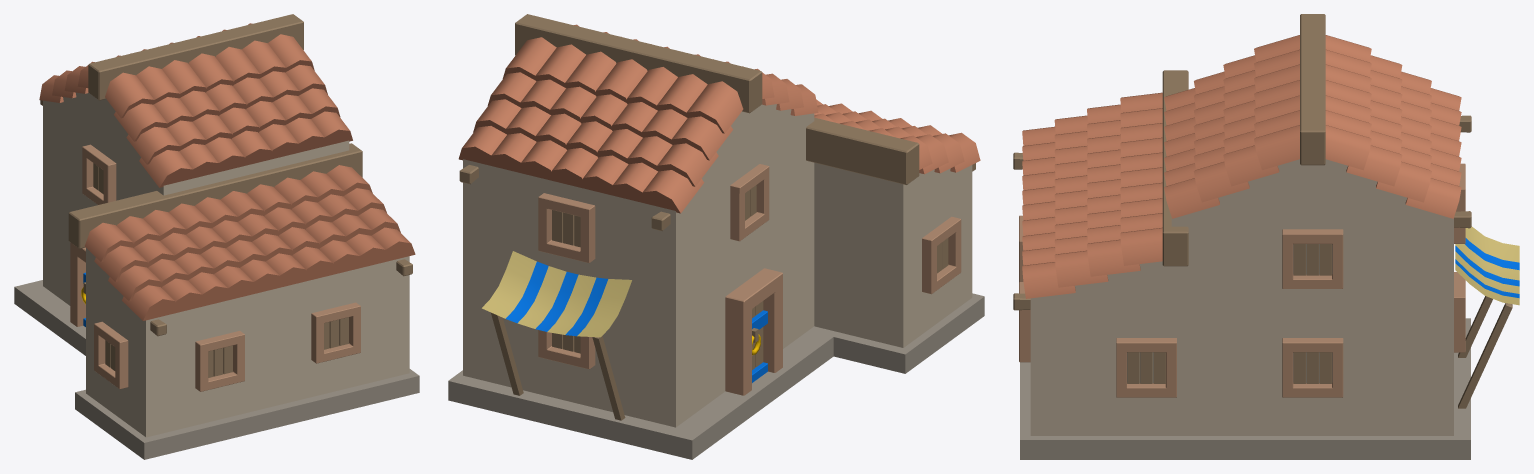
The model's file is mesh_house_02.fbx.
3 renders of one model, left to right at view 1: azimuth 30°, elevation 25°; view 2: azimuth 150°, elevation 25°; view 3: azimuth 270°, elevation 25°, orthographic. The views are drawn at different scales.
Visible parts, largest first — view 1: mesh_house_02; view 2: mesh_house_02; view 3: mesh_house_02.
Part boxes in pixels (x1,y1,x2,y2): mesh_house_02: (14, 14, 419, 459); mesh_house_02: (448, 14, 984, 459); mesh_house_02: (1013, 14, 1519, 459).
Size of the model in its own units: 0.0879 by 0.0837 by 0.1159.
